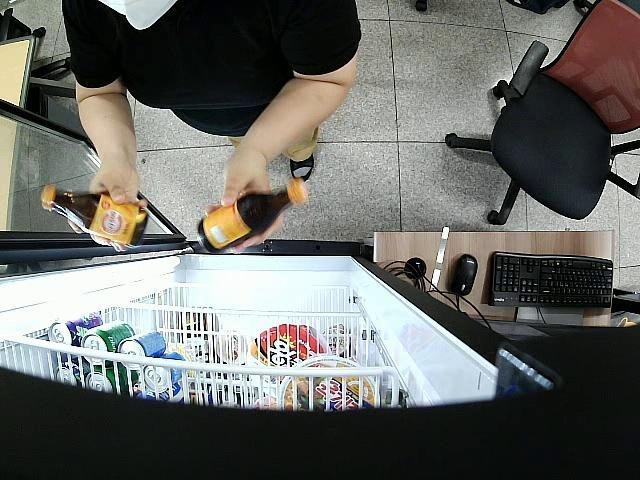17_vita500: (198, 177, 306, 254), (42, 184, 148, 244)
